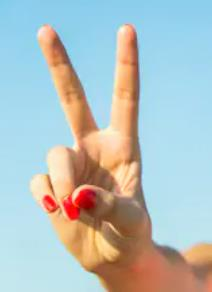front: (28, 20, 144, 272)
